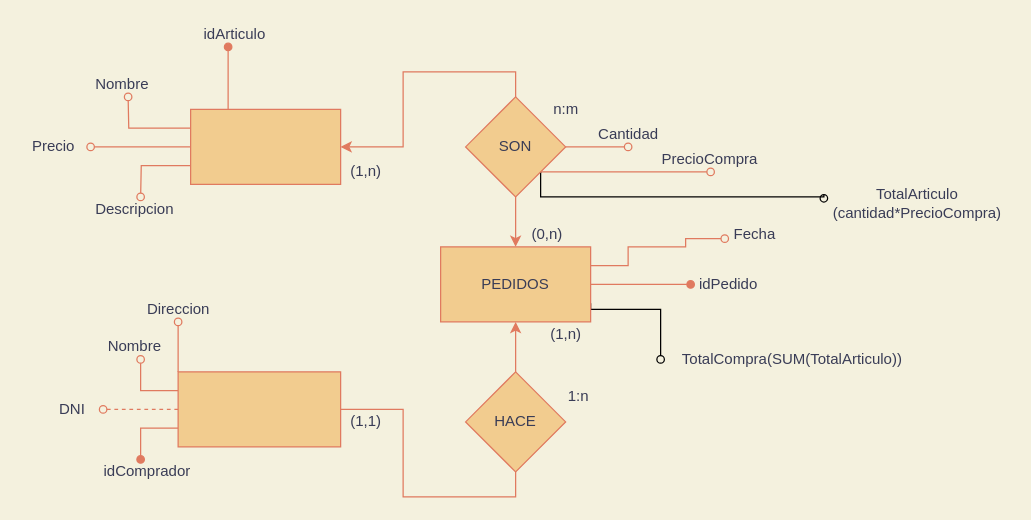
The diagram is 1031 pixels wide and 520 high, and some of its shapes have lost their labels. Each missing label, with the centre of its shape:
ARTICULOS: (265,146)
COMPRADOR: (259,409)
